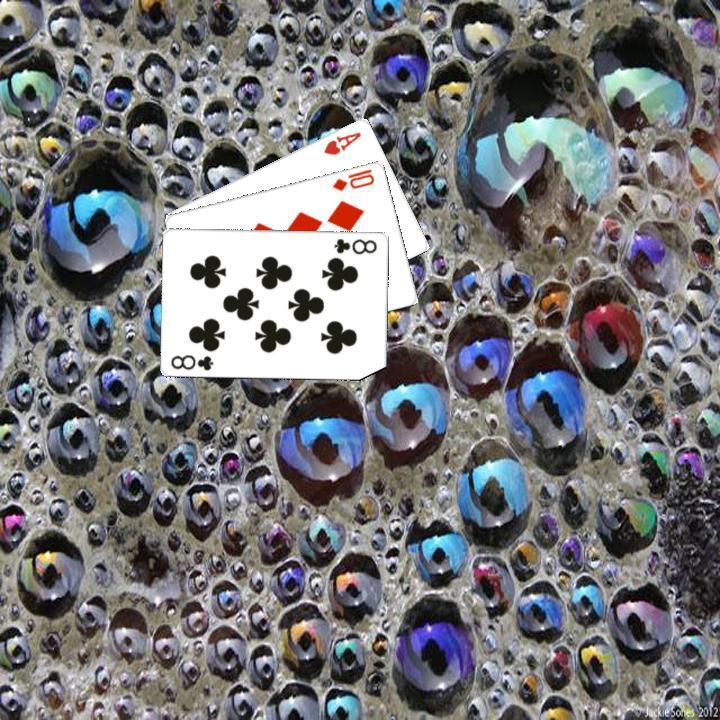10: (328, 164, 377, 193)
8: (330, 234, 379, 256), (167, 350, 216, 372)
A: (319, 127, 363, 157)
